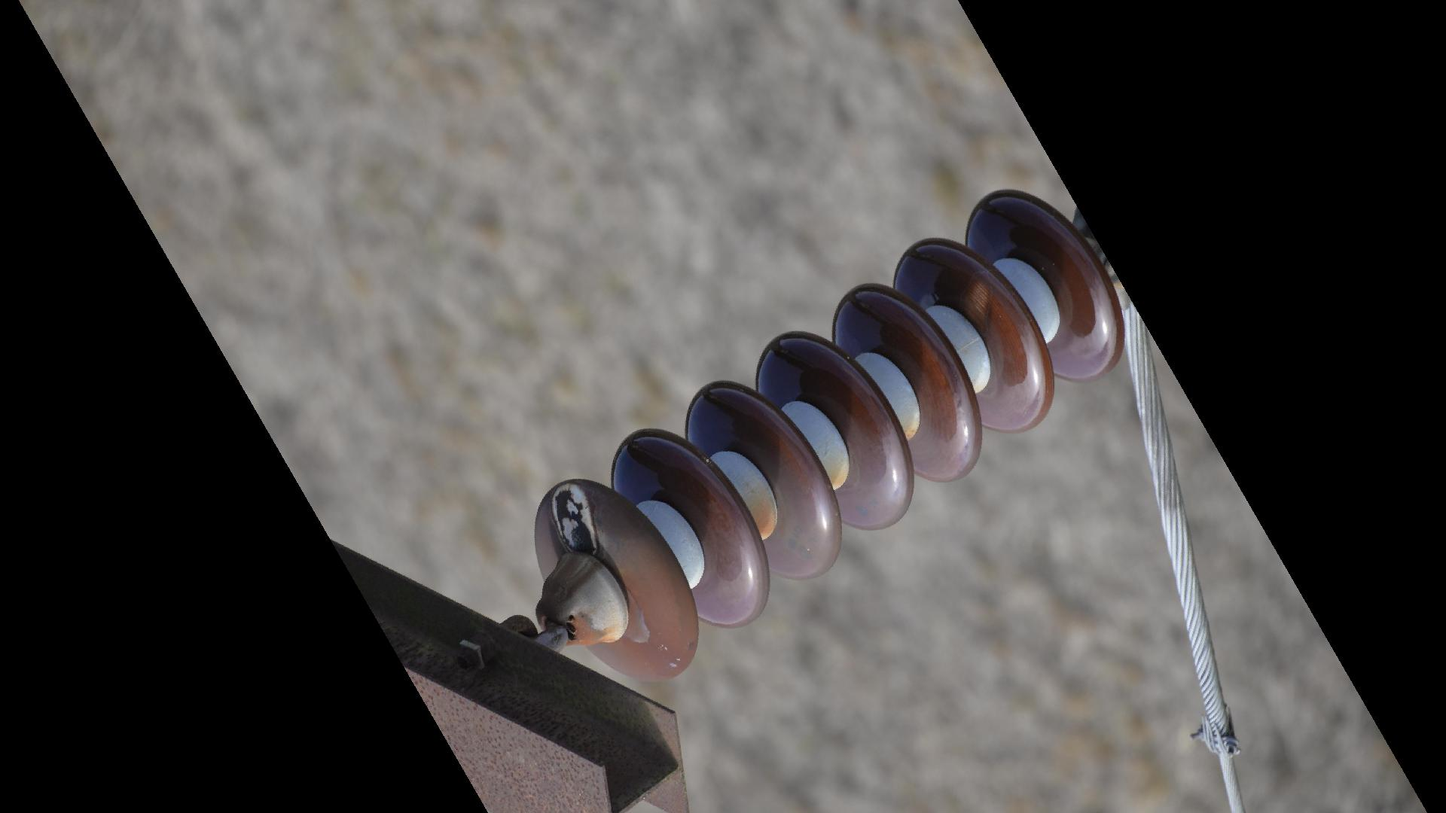insulator: (525, 182, 1131, 687)
insulator_flashover: (548, 481, 600, 558), (958, 271, 995, 335)
